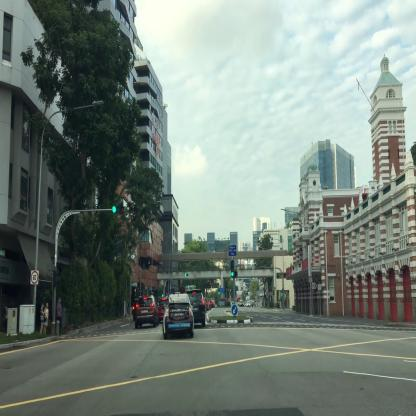green_traffic_light: (112, 207, 125, 212), (231, 260, 233, 276)
